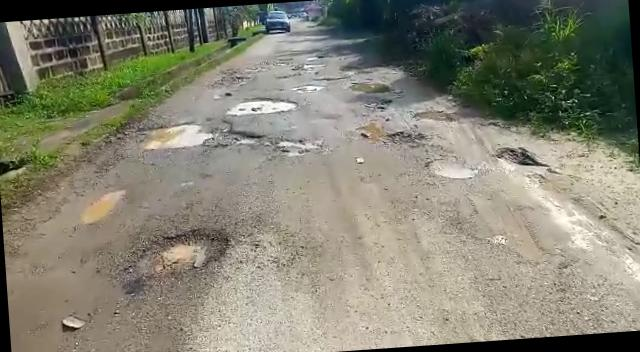pothole: (124, 224, 240, 286), (230, 122, 326, 160), (140, 121, 216, 151), (222, 93, 302, 116), (424, 154, 482, 182), (291, 82, 327, 92)
